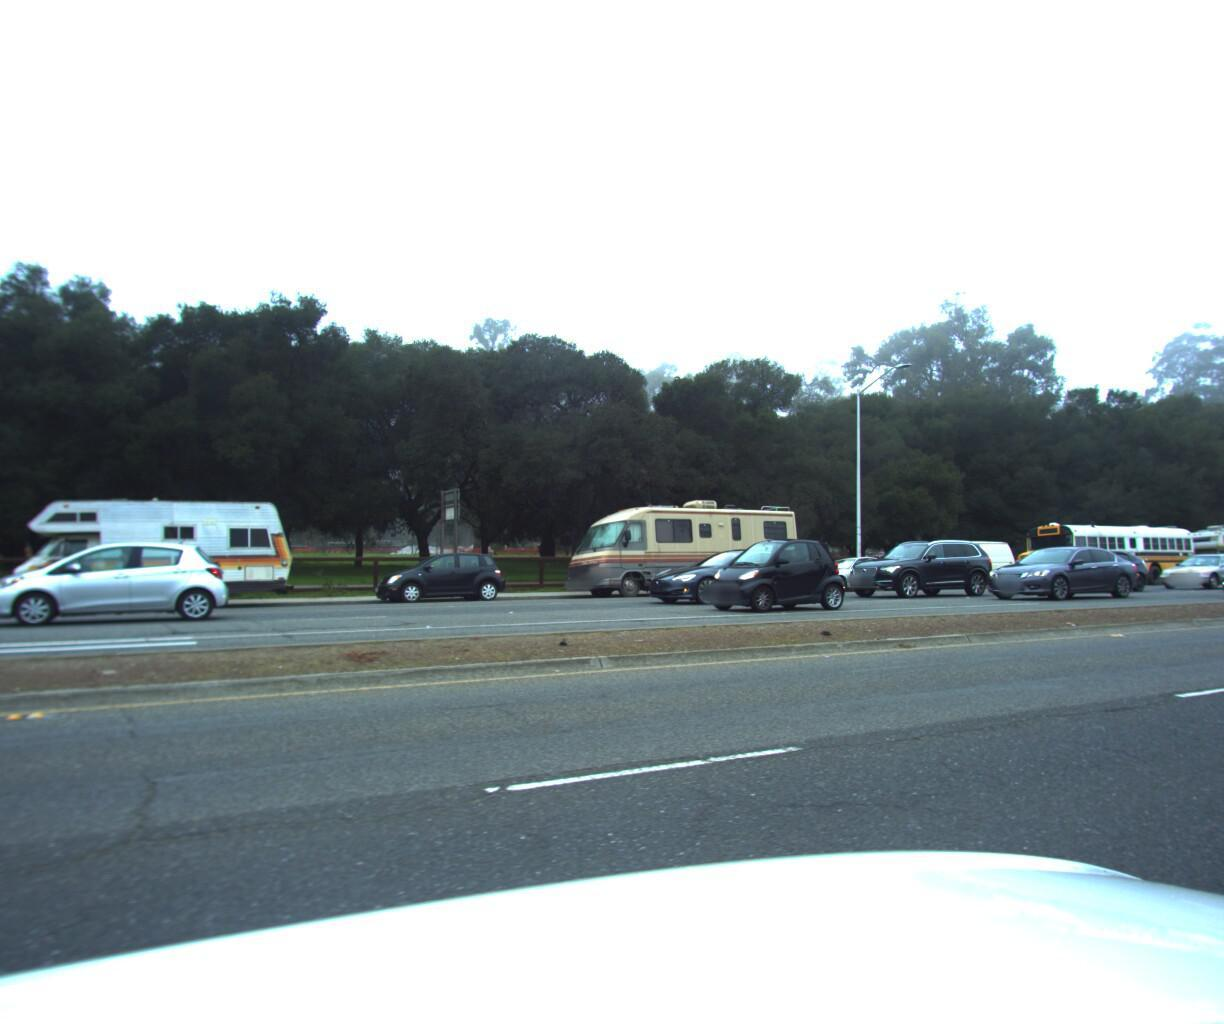bus: (994, 513, 1194, 589)
car: (0, 537, 235, 633), (635, 540, 828, 603), (696, 534, 846, 613), (964, 539, 1151, 600), (831, 533, 994, 596), (370, 550, 511, 610), (891, 533, 1016, 593), (1018, 544, 1148, 590), (791, 551, 907, 597), (1139, 549, 1224, 590), (1203, 540, 1224, 599)
other_vehicle: (4, 489, 302, 631), (552, 490, 807, 610), (1155, 516, 1224, 586)
